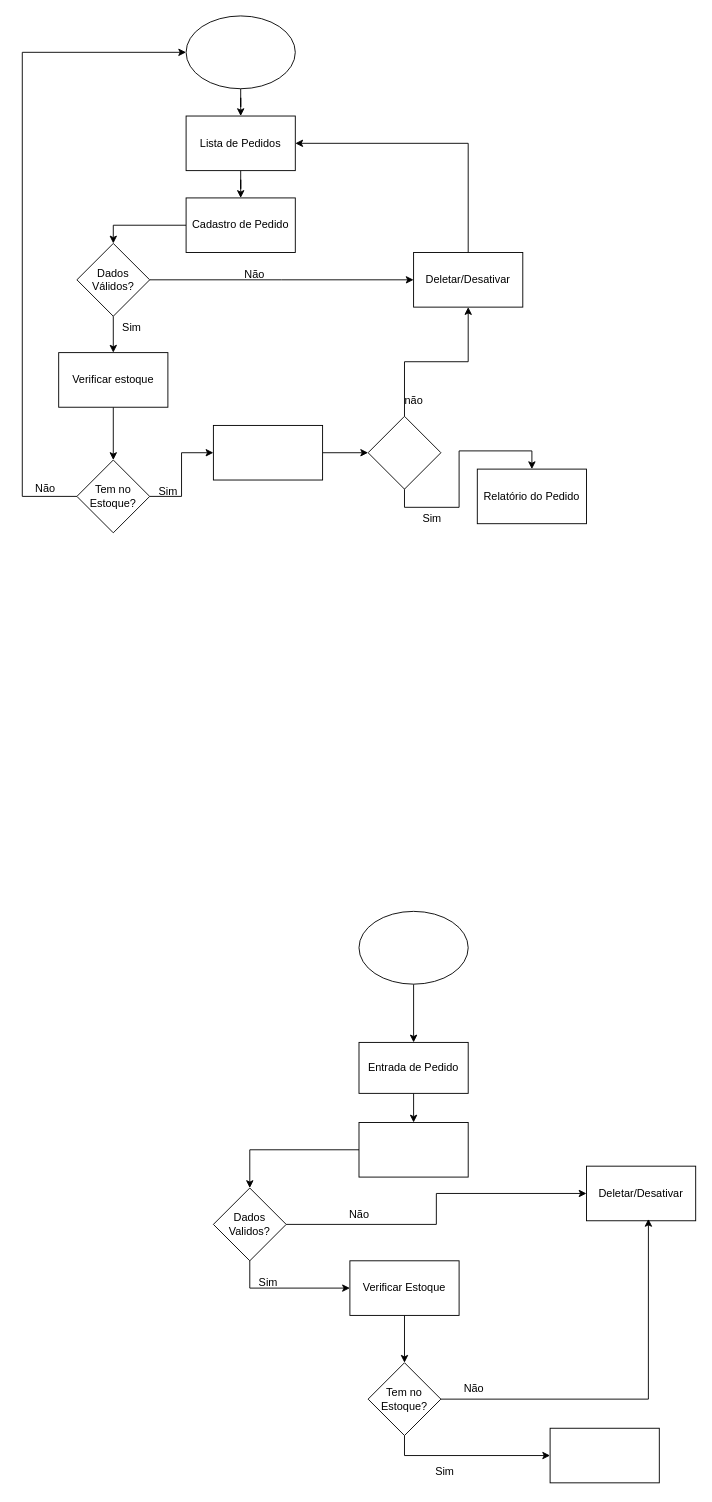
Image size: 712x1502. Some labels were removed from this diagram. The shapes that lost their labels are listed below. From the top down, each one's centre as x and y in pixels, then its label:
At (x=240, y=52): "Início".
At (x=267, y=452): "Verificar Preço".
At (x=404, y=452): "Preço correto?".
At (x=413, y=947): "ínicio".
At (x=413, y=1149): "Cadastro de pedidos do cliente".
At (x=604, y=1455): "Saída de pedido repassado para a transportadora".
